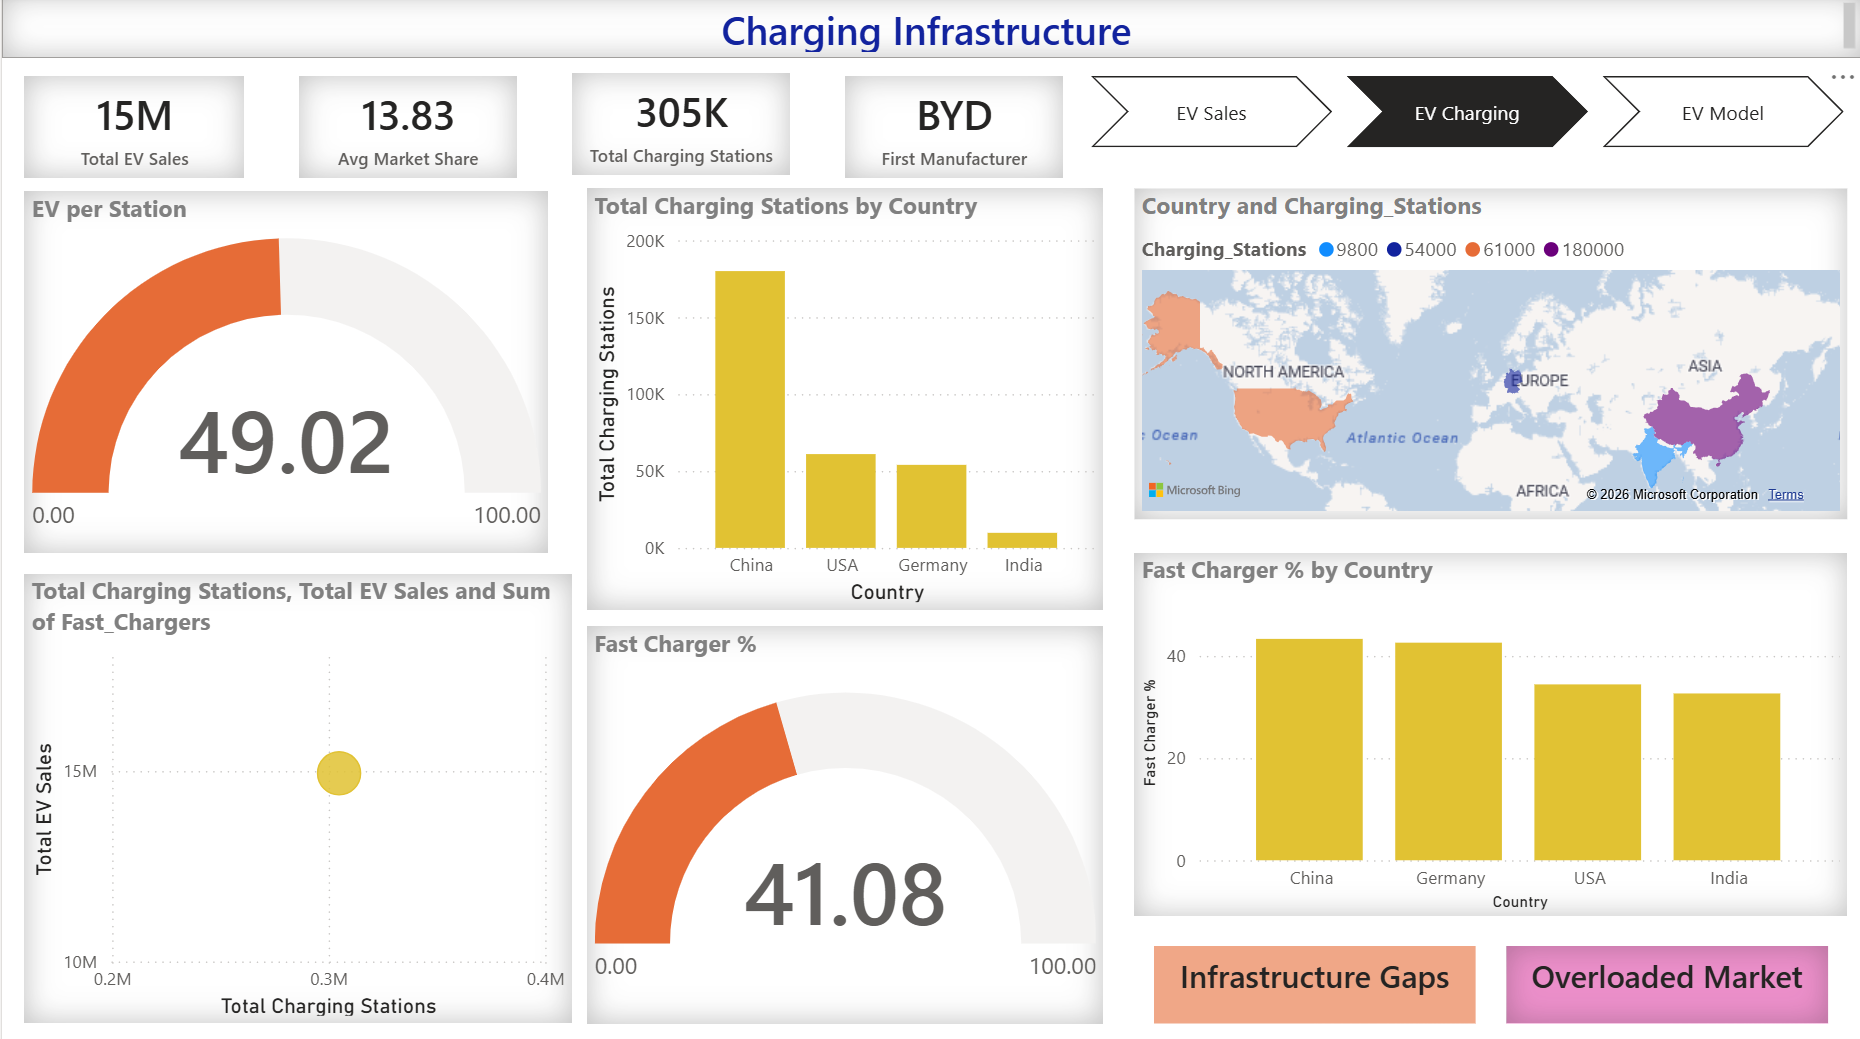

The page's visual inventory and layout, read from the dashboard file:
{"tool":"powerbi","page":{"name":"EV Charging","canvas":[1280,720],"ordinal":1},"visuals":[{"type":"textbox","box":[0,0,1280,43.4],"z":0},{"type":"gauge","fields":{"Y":["EV_Charging.EV per Station"]},"box":[15.7,135.3,360.1,248.9],"z":1000},{"type":"scatterChart","fields":{"Size":["Sum(EV_Charging.Fast_Chargers)"],"X":["EV_Charging.Total Charging Stations"],"Y":["EV_Sales.Total EV Sales"]},"box":[15.7,398.7,377,309.3],"z":2000},{"type":"clusteredColumnChart","fields":{"Category":["EV_Charging.Country"],"Y":["EV_Charging.Total Charging Stations"]},"box":[402.4,132.9,355.2,290],"z":3000},{"type":"gauge","fields":{"Y":["EV_Charging.Fast Charger %"]},"box":[402.4,435,355.2,273.1],"z":4000},{"type":"clusteredColumnChart","fields":{"Category":["EV_Charging.Country"],"Y":["EV_Charging.Fast Charger %"]},"box":[779.4,384.2,490.6,250.1],"z":5000},{"type":"card","fields":{"Values":["EV_Sales.Total EV Sales"]},"box":[15.7,55.6,151,70],"z":6000},{"type":"card","fields":{"Values":["Min(EV_Model.Manufacturer)"]},"box":[580,55.6,149.8,70.1],"z":7000},{"type":"card","fields":{"Values":["EV_Charging.Total Charging Stations"]},"box":[392.2,53.2,150,70],"z":8000},{"type":"card","fields":{"Values":["EV_Sales.Avg Market Share"]},"box":[204.5,55.6,149.8,70.1],"z":9000},{"type":"textbox","box":[792.7,654.9,221.1,53.2],"z":10000},{"type":"textbox","box":[1035.5,654.9,221.1,53.2],"z":11000},{"type":"filledMap","fields":{"Category":["EV_Charging.Country"],"Series":["EV_Charging.Charging_Stations"]},"box":[779.4,132.9,490.6,227.2],"z":12000},{"type":"pageNavigator","box":[749.2,55.6,520.8,49.5],"z":13000}]}

Visuals, with their boxes in screenshot pixels (x1, y1, x2, y2), scaled from the page's 1280x720 canvas onto the 1860x1039 screenshot:
textbox: x1=0, y1=0, x2=1859, y2=63
gauge - EV_Charging.EV per Station: x1=23, y1=195, x2=546, y2=554
scatterChart - Sum(EV_Charging.Fast_Chargers) x EV_Charging.Total Charging Stations: x1=23, y1=575, x2=571, y2=1022
clusteredColumnChart - EV_Charging.Country x EV_Charging.Total Charging Stations: x1=585, y1=192, x2=1101, y2=610
gauge - EV_Charging.Fast Charger %: x1=585, y1=628, x2=1101, y2=1022
clusteredColumnChart - EV_Charging.Country x EV_Charging.Fast Charger %: x1=1133, y1=554, x2=1845, y2=915
card - EV_Sales.Total EV Sales: x1=23, y1=80, x2=242, y2=181
card - Min(EV_Model.Manufacturer): x1=843, y1=80, x2=1060, y2=181
card - EV_Charging.Total Charging Stations: x1=570, y1=77, x2=788, y2=178
card - EV_Sales.Avg Market Share: x1=297, y1=80, x2=515, y2=181
textbox: x1=1152, y1=945, x2=1473, y2=1022
textbox: x1=1505, y1=945, x2=1826, y2=1022
filledMap - EV_Charging.Country x EV_Charging.Charging_Stations: x1=1133, y1=192, x2=1845, y2=520
pageNavigator: x1=1089, y1=80, x2=1845, y2=152
